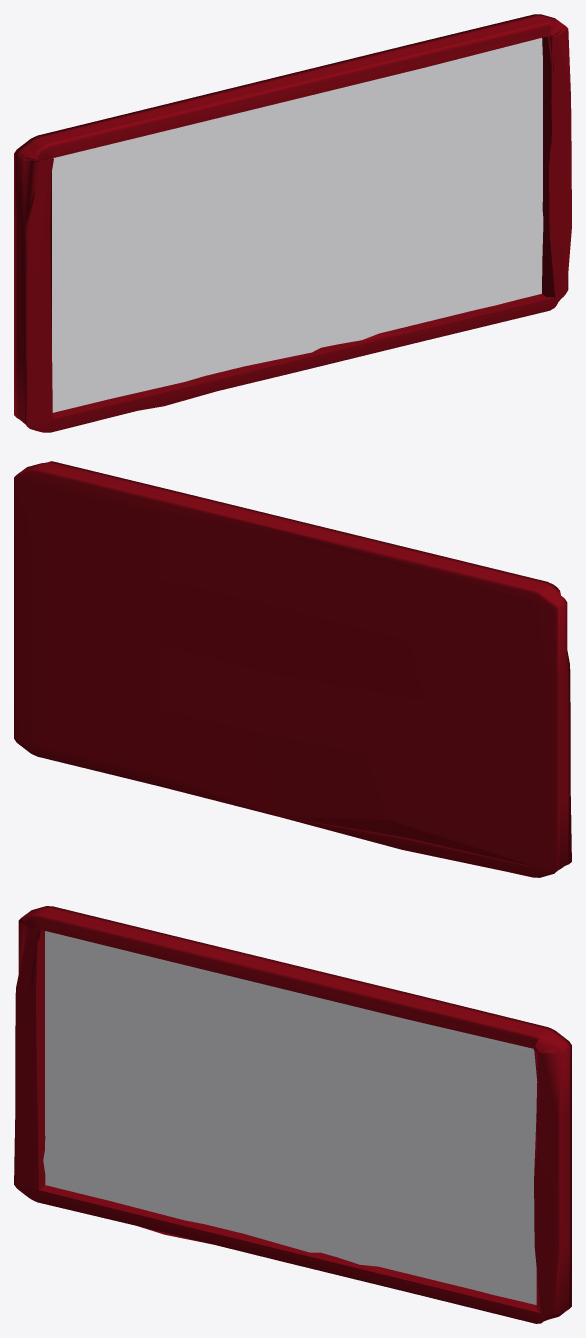
File: PRP_KeyCard.fbx
The picture shows the model from 3 angles, top to bottom: view 1: azimuth 30°, elevation 25°; view 2: azimuth 150°, elevation 25°; view 3: azimuth 330°, elevation 25°; orthographic projection.
Parts seen in each view (by area): view 1: Cube; view 2: Cube; view 3: Cube.
Boxes of the visible parts, x1=… form: Cube: x1=14, y1=14, x2=571, y2=432; Cube: x1=14, y1=461, x2=571, y2=877; Cube: x1=14, y1=906, x2=571, y2=1323.
Size of the model in its own units: 0.2827 by 0.146 by 0.0146.
